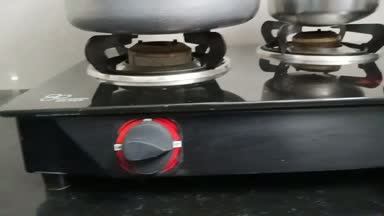flame_gas_off: (66, 11, 232, 183)
